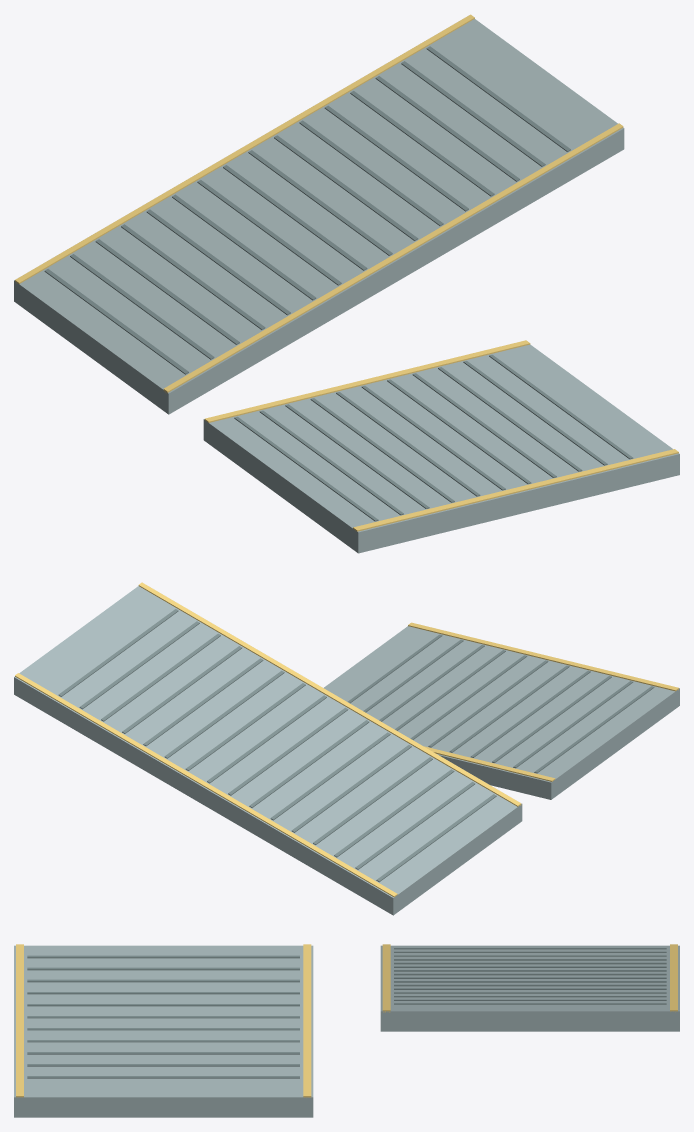
Rendered from Structure-SewerWalkway.fbx.
3 views of the same model, one above another, from view 1: azimuth 30°, elevation 25°; view 2: azimuth 150°, elevation 25°; view 3: azimuth 270°, elevation 25° (orthographic). The views are drawn at different scales.
Parts seen in each view (by area): view 1: Deck.001, Deck, Anti Slip Rib Mesh.001, Anti Slip Rib Mesh, Edge Guide.002, Edge Guide.003, Edge Guide.001, Edge Guide; view 2: Deck.001, Deck, Anti Slip Rib Mesh.001, Anti Slip Rib Mesh, Edge Guide.002, Edge Guide.003, Edge Guide, Edge Guide.001; view 3: Deck, Deck.001, Anti Slip Rib Mesh, Anti Slip Rib Mesh.001, Edge Guide.001, Edge Guide, Edge Guide.002, Edge Guide.003.
Boxes of the visible parts, x1,y1,x2,y2 form: Deck.001: (14, 19, 624, 414); Deck: (203, 344, 679, 553); Anti Slip Rib Mesh.001: (44, 46, 570, 374); Anti Slip Rib Mesh: (234, 354, 633, 521); Edge Guide.002: (163, 123, 623, 393); Edge Guide.003: (15, 14, 474, 283); Edge Guide.001: (204, 340, 530, 422); Edge Guide: (353, 449, 678, 531); Deck.001: (14, 586, 522, 915); Deck: (324, 626, 679, 799); Anti Slip Rib Mesh.001: (58, 609, 496, 882); Anti Slip Rib Mesh: (348, 634, 654, 773); Edge Guide.002: (138, 582, 521, 806); Edge Guide.003: (15, 673, 397, 897); Edge Guide: (408, 622, 678, 691); Edge Guide.001: (424, 746, 555, 781); Deck: (14, 945, 313, 1117); Deck.001: (380, 945, 679, 1031); Anti Slip Rib Mesh: (27, 955, 299, 1078); Anti Slip Rib Mesh.001: (394, 948, 666, 1004); Edge Guide.001: (303, 944, 311, 1097); Edge Guide: (16, 944, 23, 1097); Edge Guide.002: (382, 944, 390, 1012); Edge Guide.003: (670, 944, 677, 1012).
Size of the model in its own units: 3.4 by 1.26 by 4.45.
